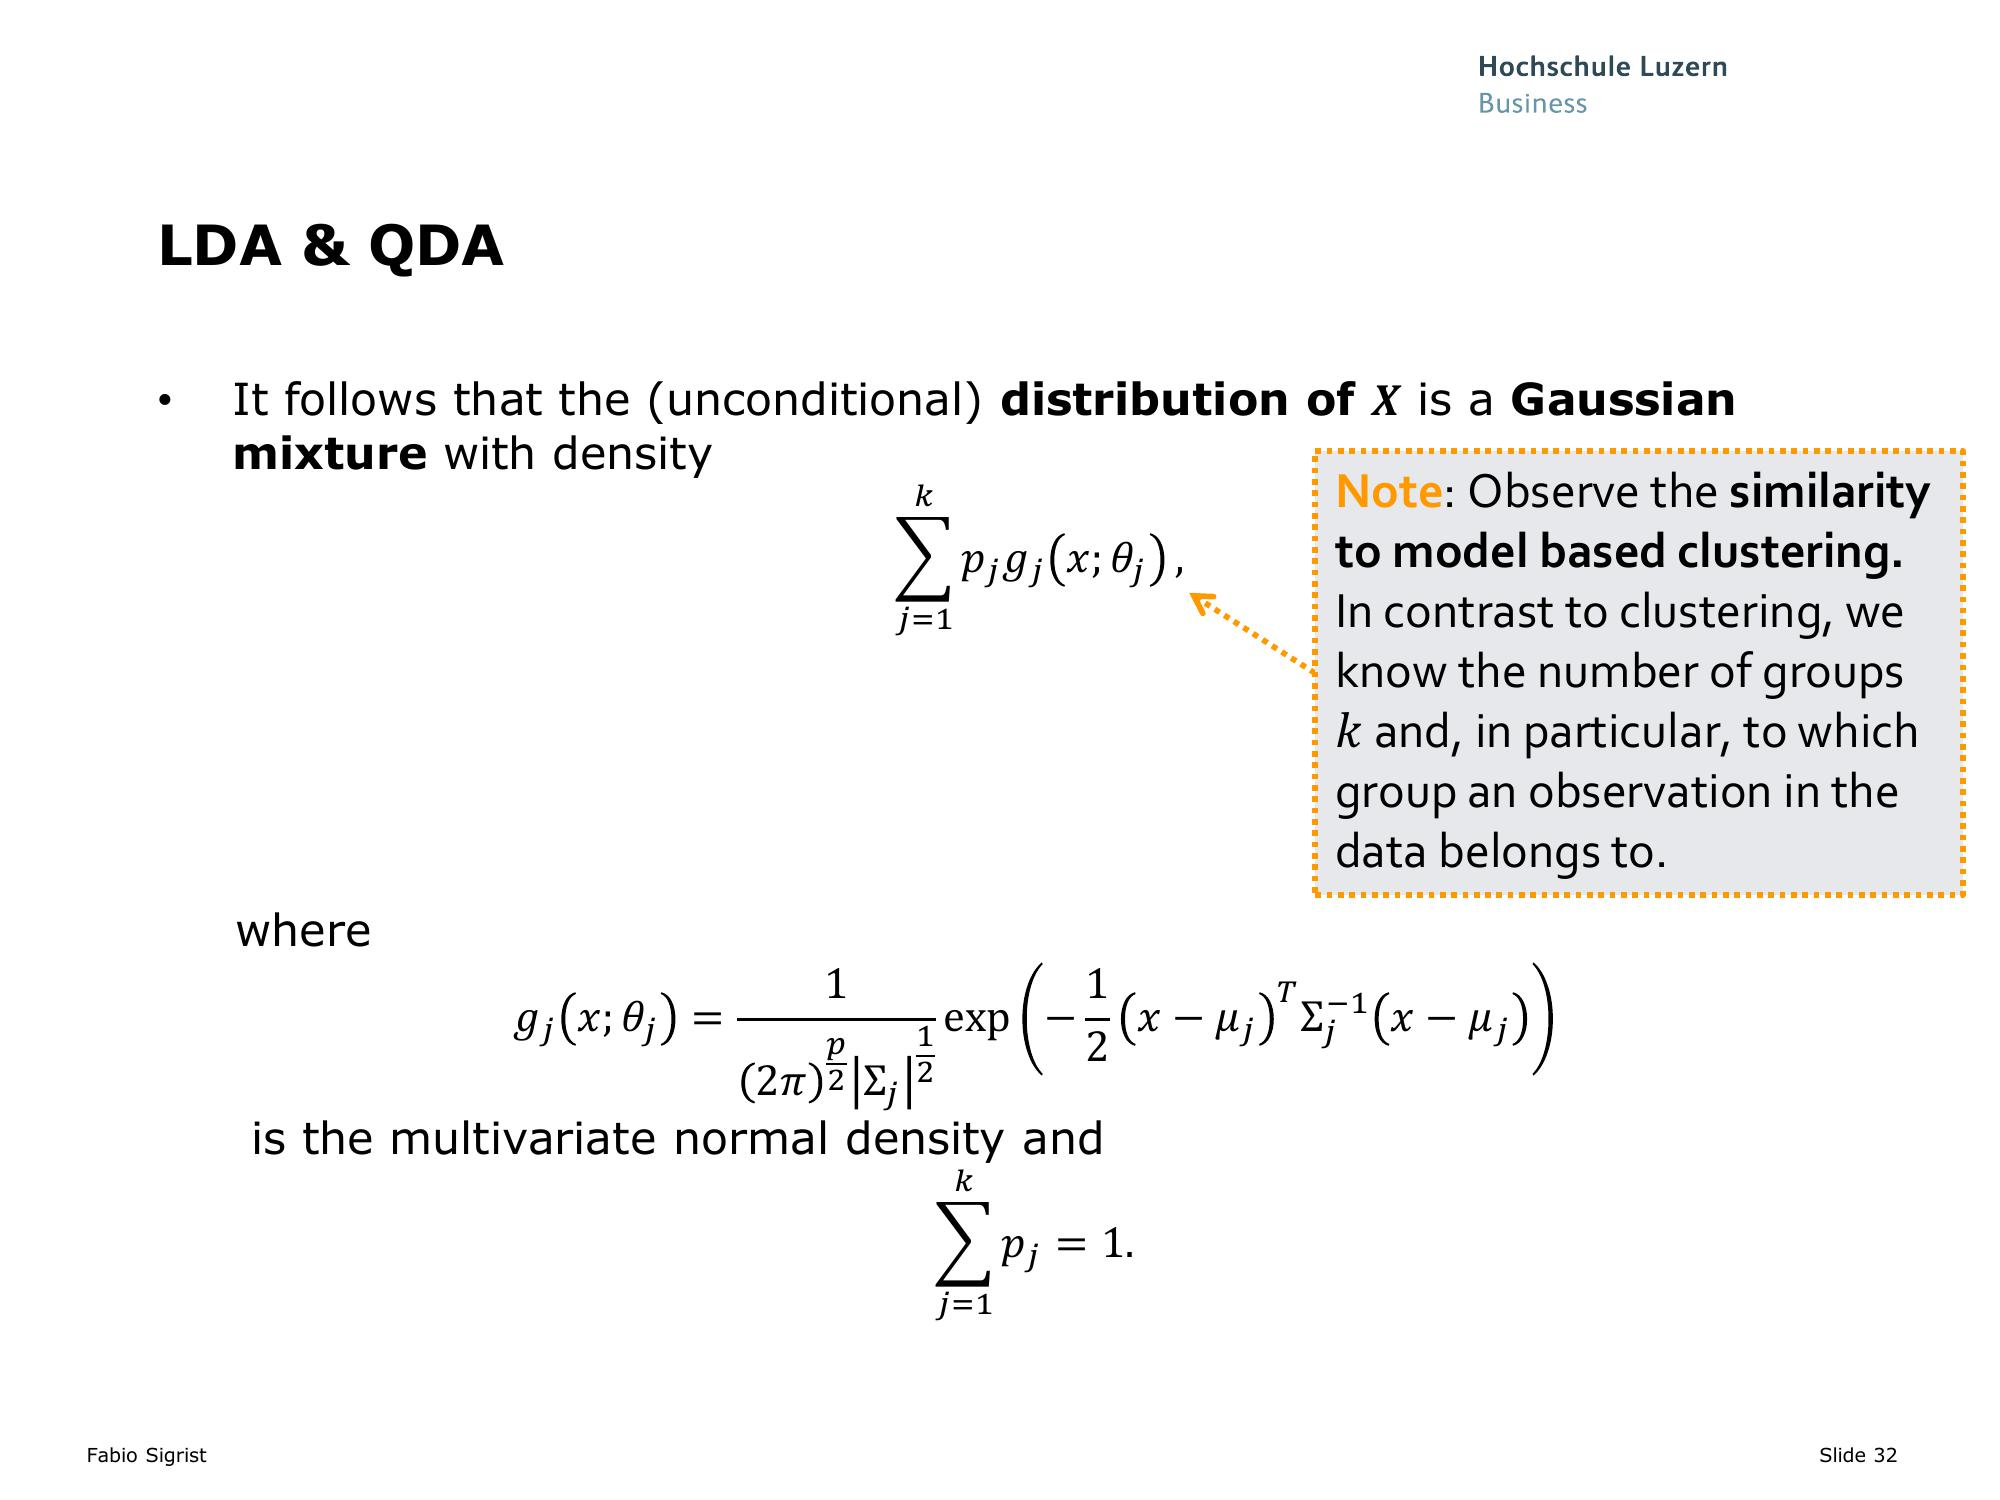Title: (128, 199, 543, 291)
